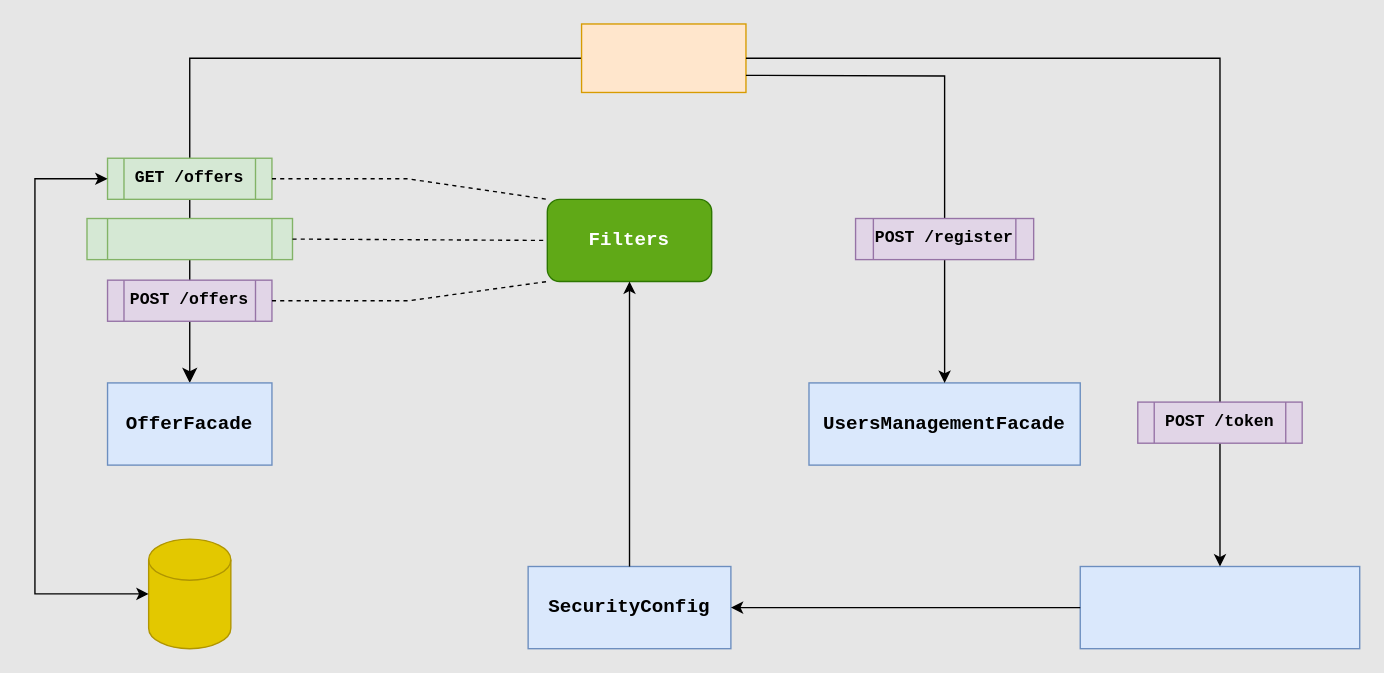
The diagram is 1384 pixels wide and 673 high, and some of its shapes have lost their labels. The shapes that lost their labels are listed below. From the top down, each one's centre as x and y in pixels, then its label:
(663,57): User
(189,238): GET /offers/{id}
(189,593): Cache
(1219,607): JwtAuthenticator Facade
